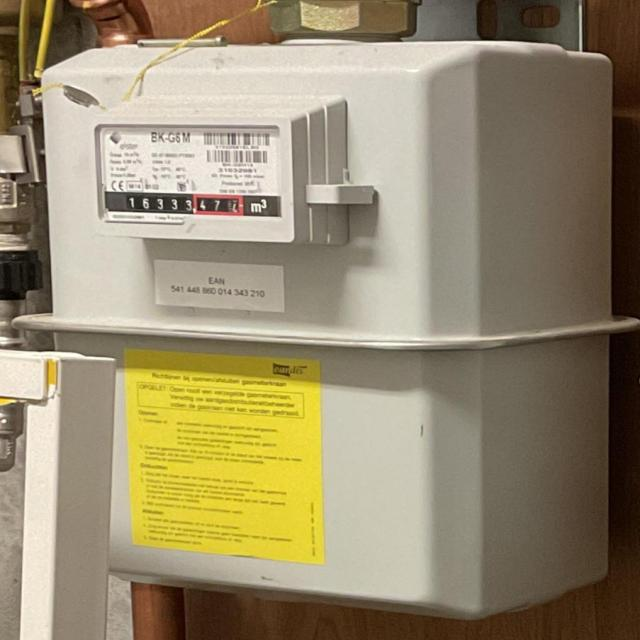gaz_meter: (88, 122, 294, 226)
indication: (105, 191, 250, 216)
